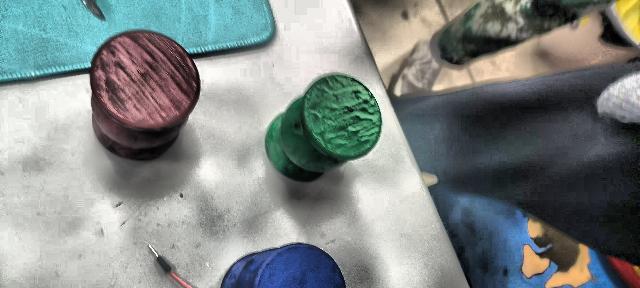blue: (220, 242, 346, 288)
green: (264, 73, 382, 181)
red: (90, 29, 200, 165)
